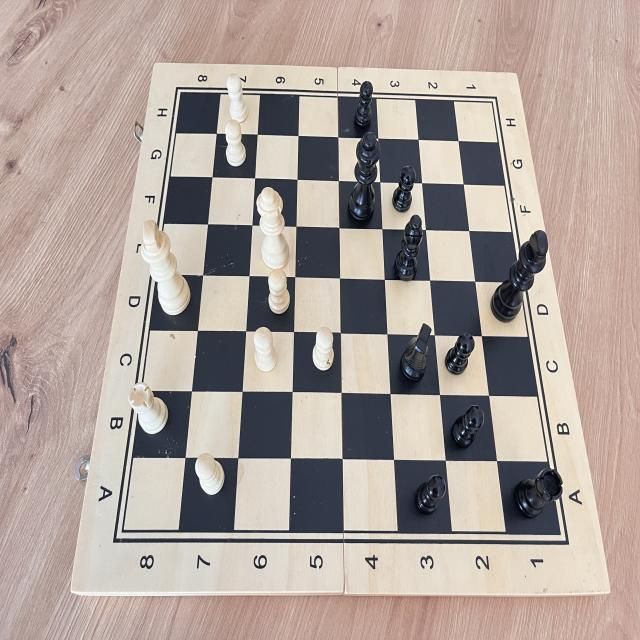black-bishop: (389, 212, 429, 288)
black-king: (484, 214, 552, 336)
black-knight: (394, 321, 439, 392)
black-pawn: (446, 398, 489, 458), (408, 464, 450, 521), (439, 327, 479, 380), (387, 160, 418, 216), (348, 78, 375, 135)
black-queen: (344, 127, 383, 226)
black-rook: (504, 450, 567, 536)
white-king: (130, 215, 198, 323)
white-pawn: (193, 446, 230, 505), (222, 69, 256, 130), (246, 321, 282, 377), (216, 114, 249, 172), (262, 269, 294, 319), (308, 323, 339, 372)
white-queen: (249, 182, 296, 280)
white-rook: (122, 374, 174, 442)
